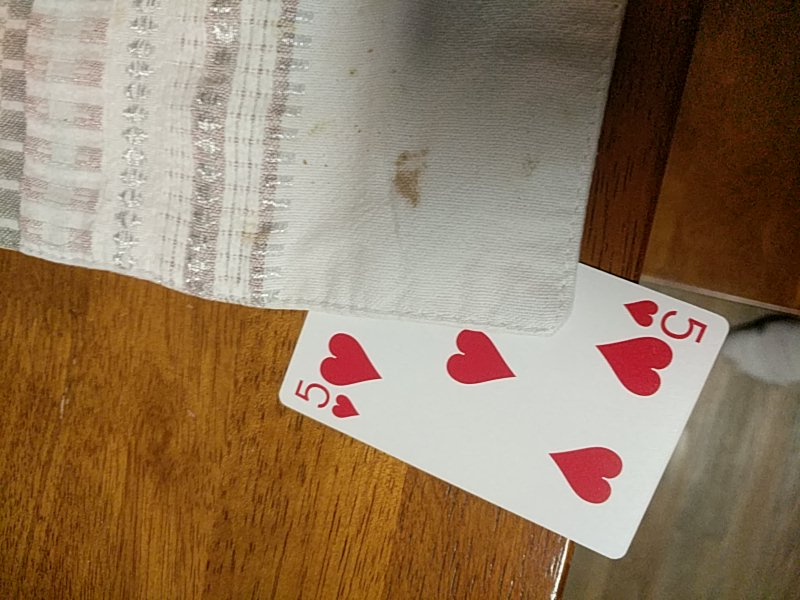Hearts: (278, 261, 727, 560)
